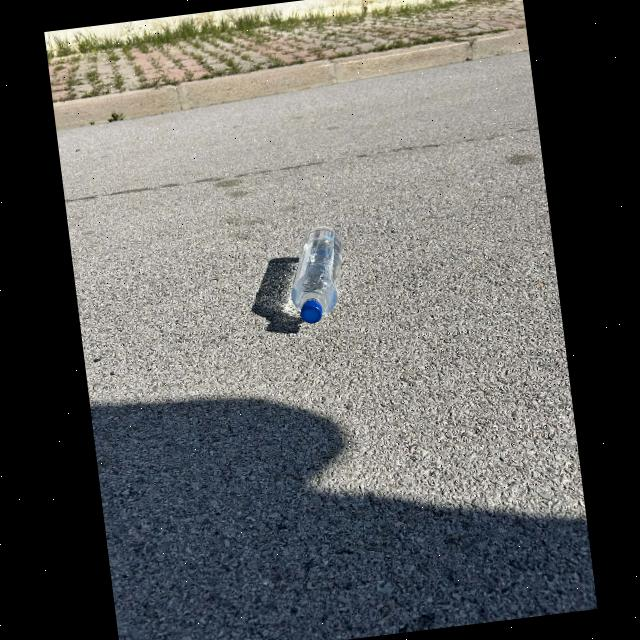trash: (278, 218, 354, 334)
